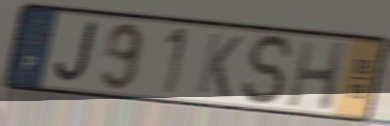1: (163, 27, 189, 98)
9: (99, 21, 147, 93)
H: (285, 38, 350, 114)
J: (52, 20, 99, 86)
K: (194, 30, 245, 101)
S: (241, 33, 298, 109)
